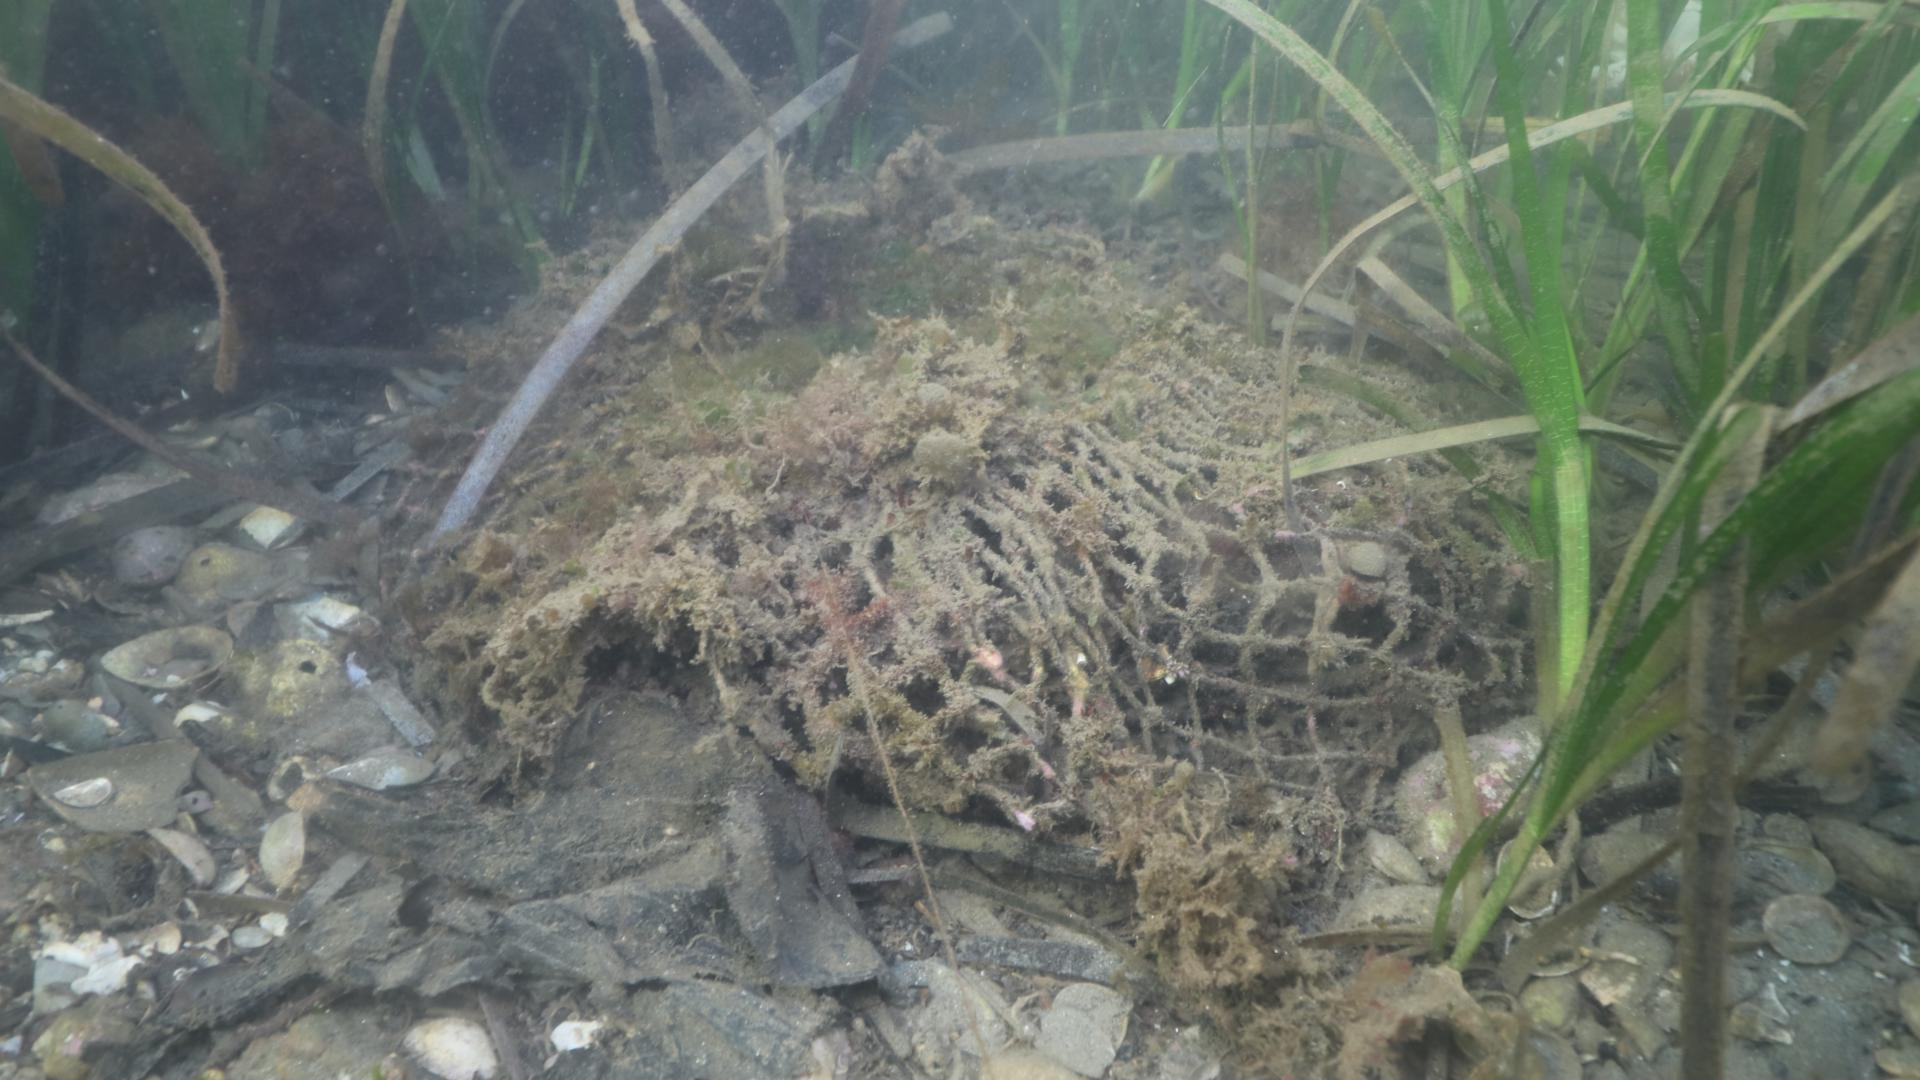fish net: (786, 419, 1474, 811)
